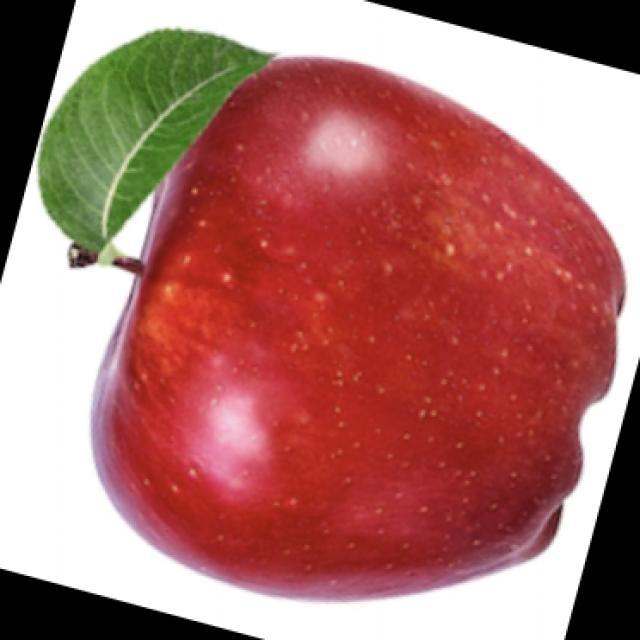Fresh Apple: (84, 58, 618, 580)
